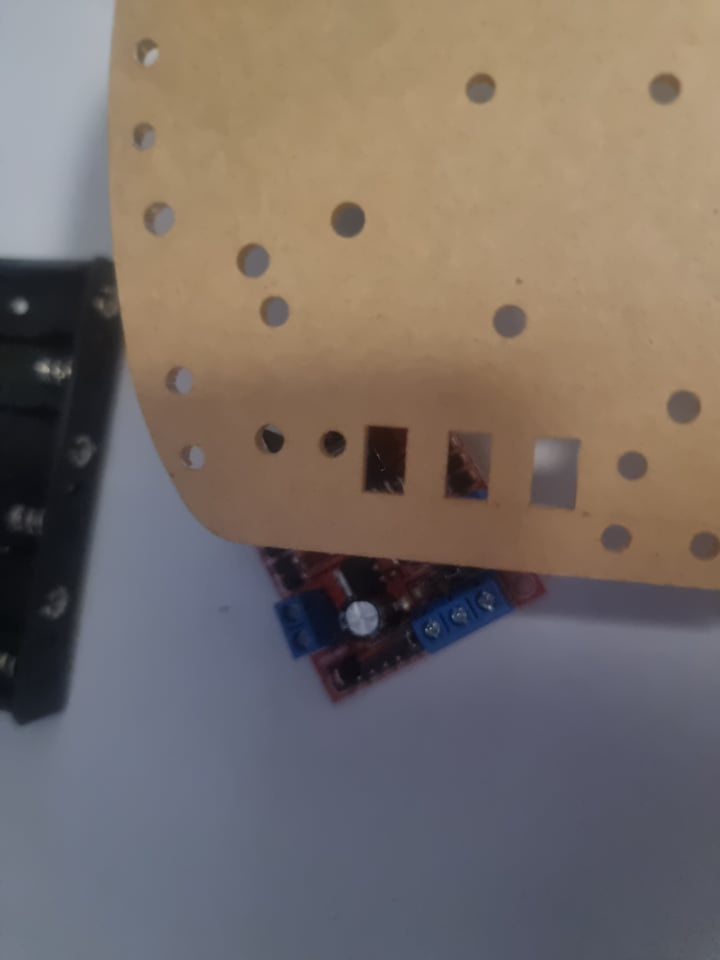BATTERY BOX: (0, 238, 130, 731)
MOTOR: (251, 438, 562, 708)
